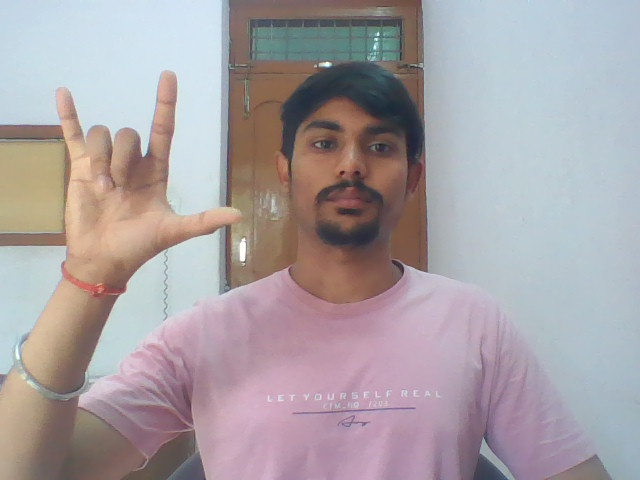I Love You: (40, 66, 247, 272)
